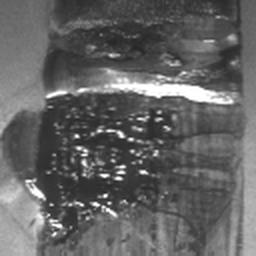Slag inclusion: (0, 0, 250, 256)
